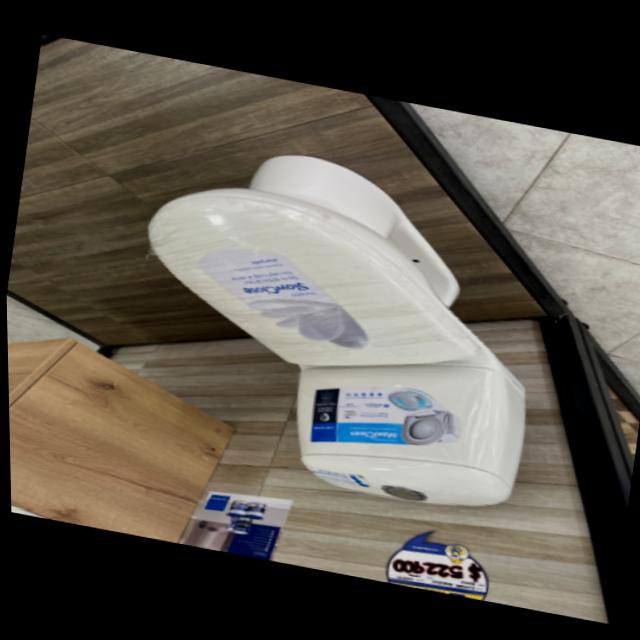toilet: (109, 126, 562, 521)
